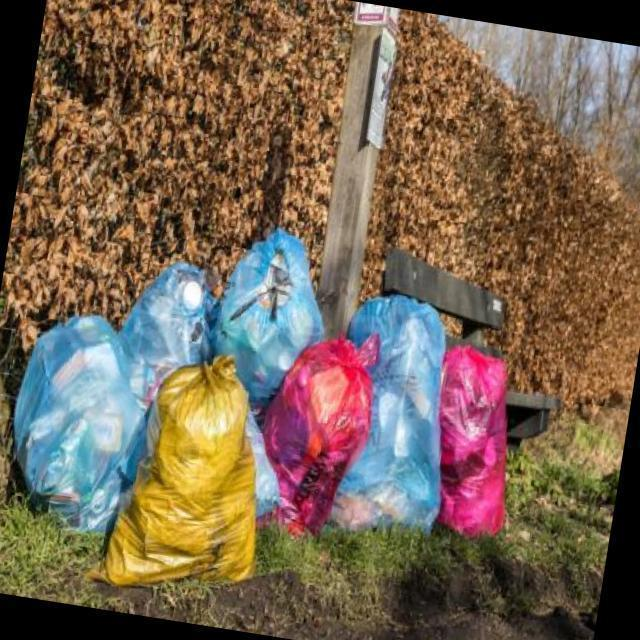Single-layer Plastic: (94, 356, 255, 586), (15, 318, 149, 531), (331, 295, 445, 532), (265, 335, 378, 534), (215, 229, 324, 407), (120, 262, 214, 407), (438, 345, 508, 536)
